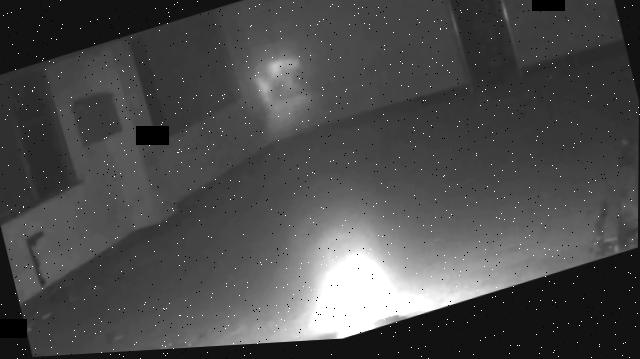fire: (302, 250, 404, 342)
smoke: (235, 43, 330, 151)
